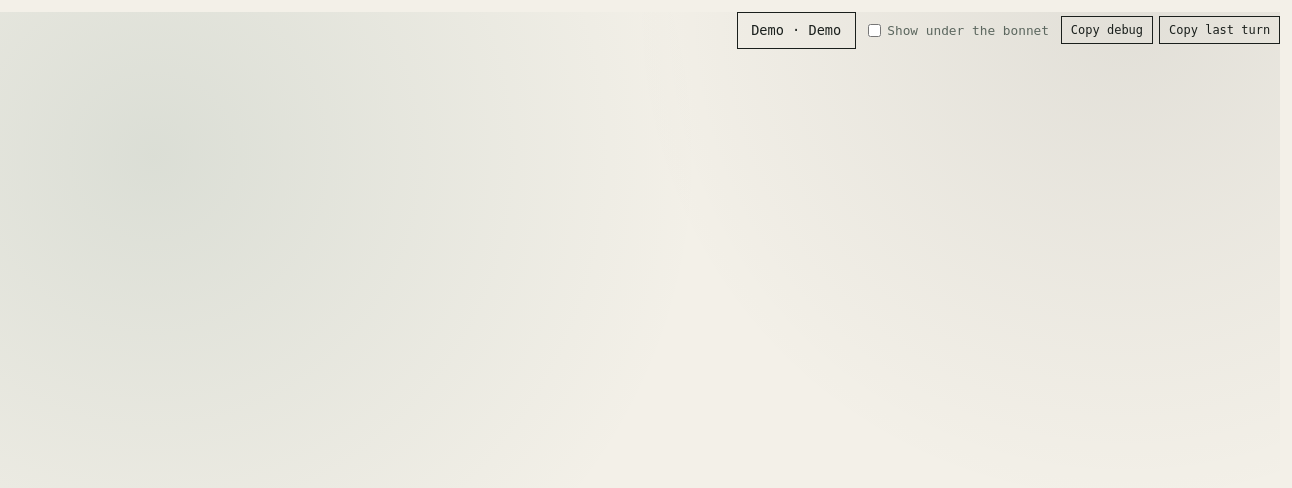
it: DemoControlsPanel › copies the full forensic session dump next to under the bonnet
Check: the button "Copy last turn" is enabled, box [1159, 16, 1280, 44]
Step 1. Click the button "Copy debug" → (1107, 30), box [1061, 16, 1153, 44]
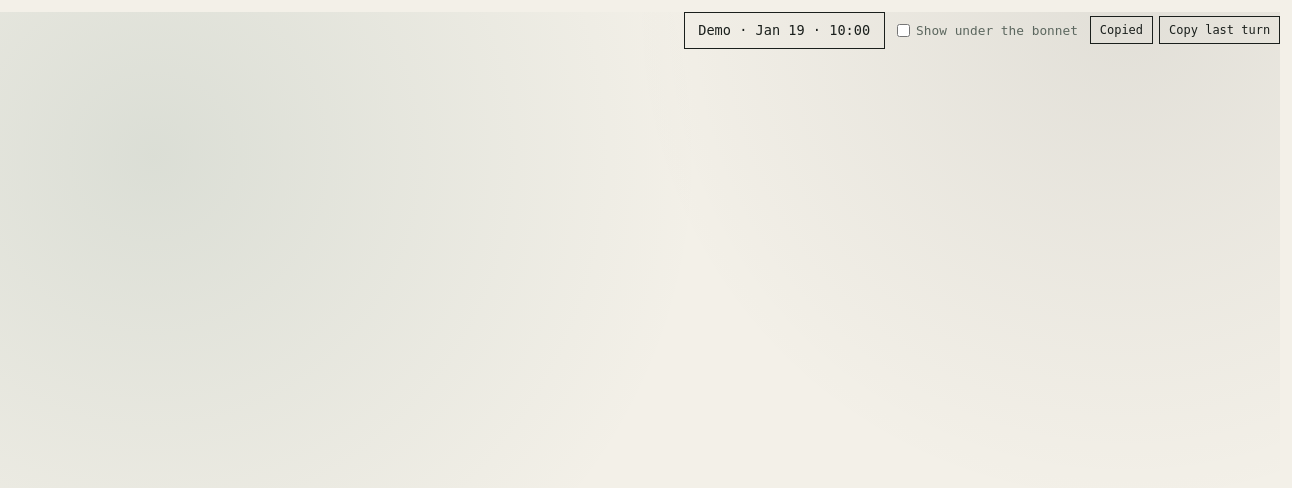
Check: the button "Copied" is shown, box [1090, 16, 1153, 44]
